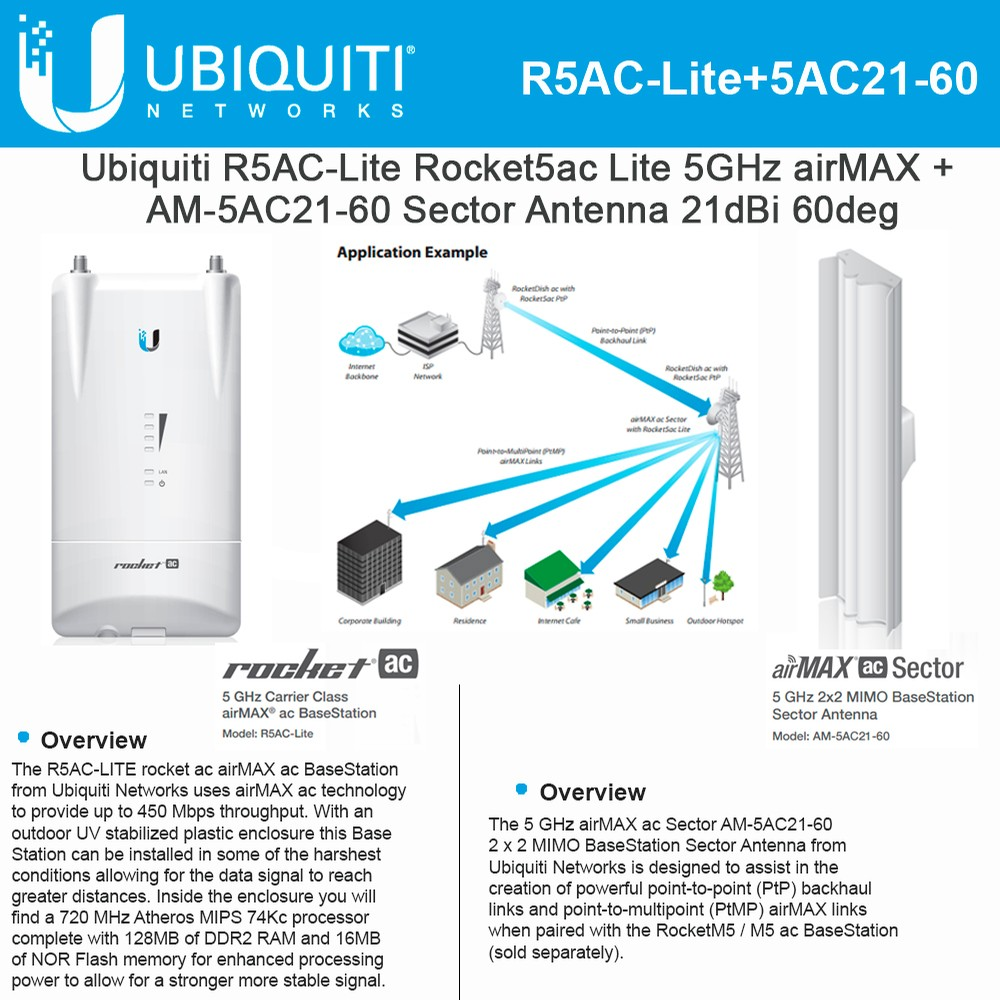sa: (811, 234, 925, 662)
